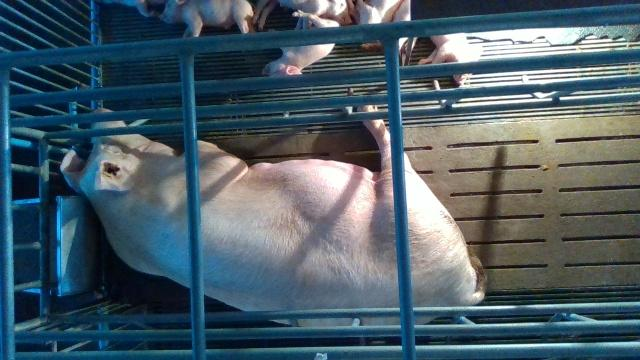piglet: (261, 9, 339, 76), (158, 0, 257, 39), (418, 32, 482, 86), (250, 0, 354, 30), (348, 0, 403, 49)
sow-sleep: (62, 105, 488, 327)
